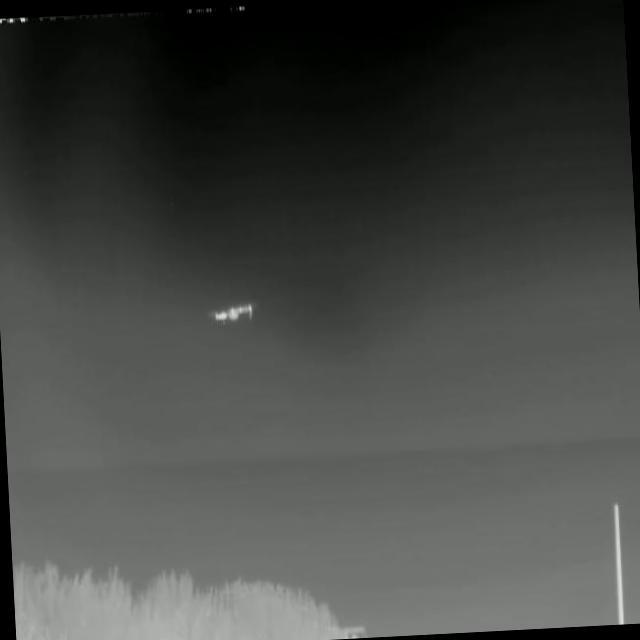DRONE: (200, 292, 264, 334)
